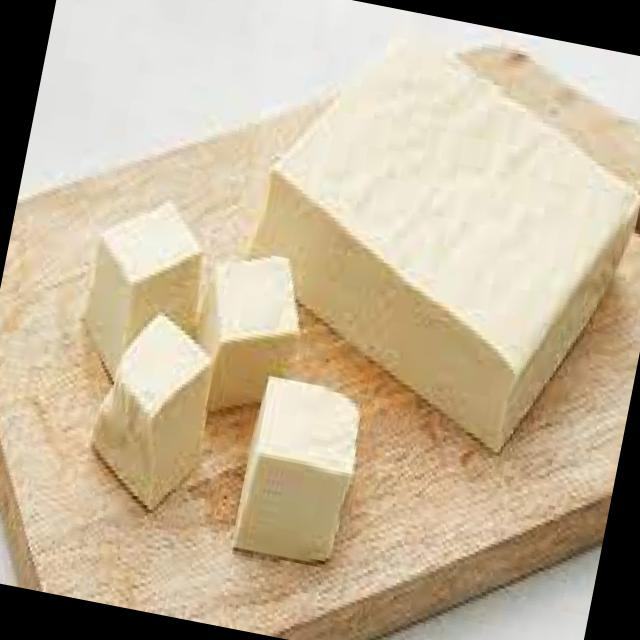tof: (251, 6, 640, 460), (41, 202, 411, 589)
